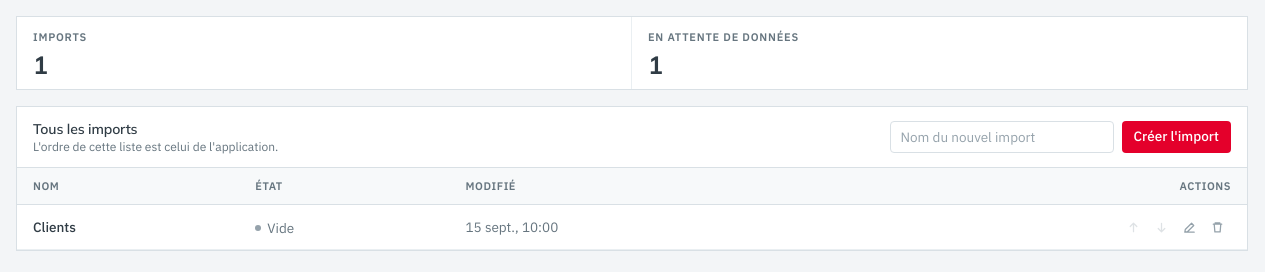
Scenario: renomme un import
Click the button named "Renommer Clients" at (1189, 227), box [1175,213,1203,241]
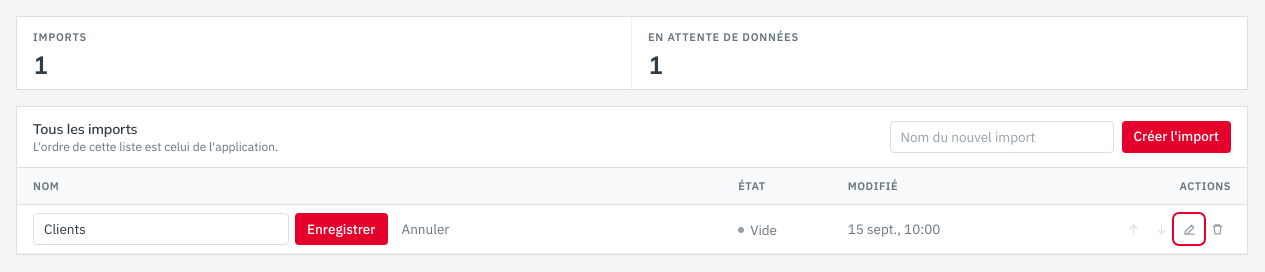
Replace the text in the field named "Nouveau nom" with "Clients 2026" at (161, 229), box [33,213,289,245]
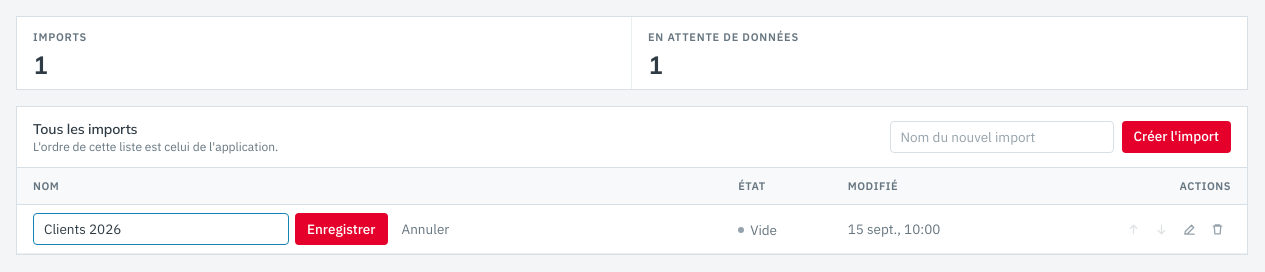
Click the button "Enregistrer" at (341, 229), box [295,213,388,245]
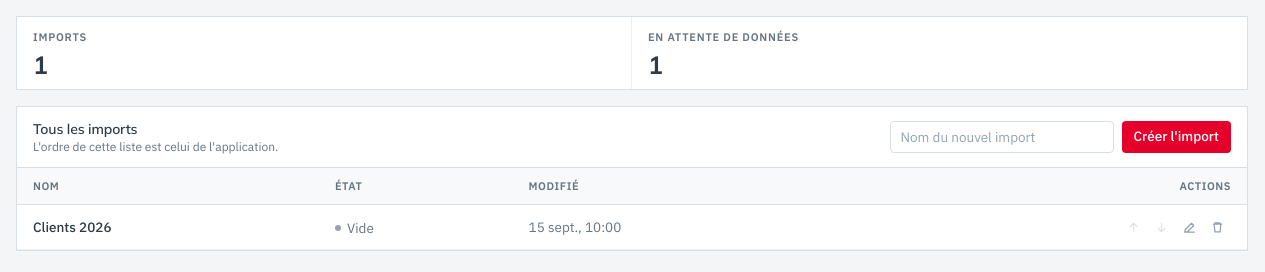
Result: the link "Clients 2026" is shown at [33,218,112,236]
